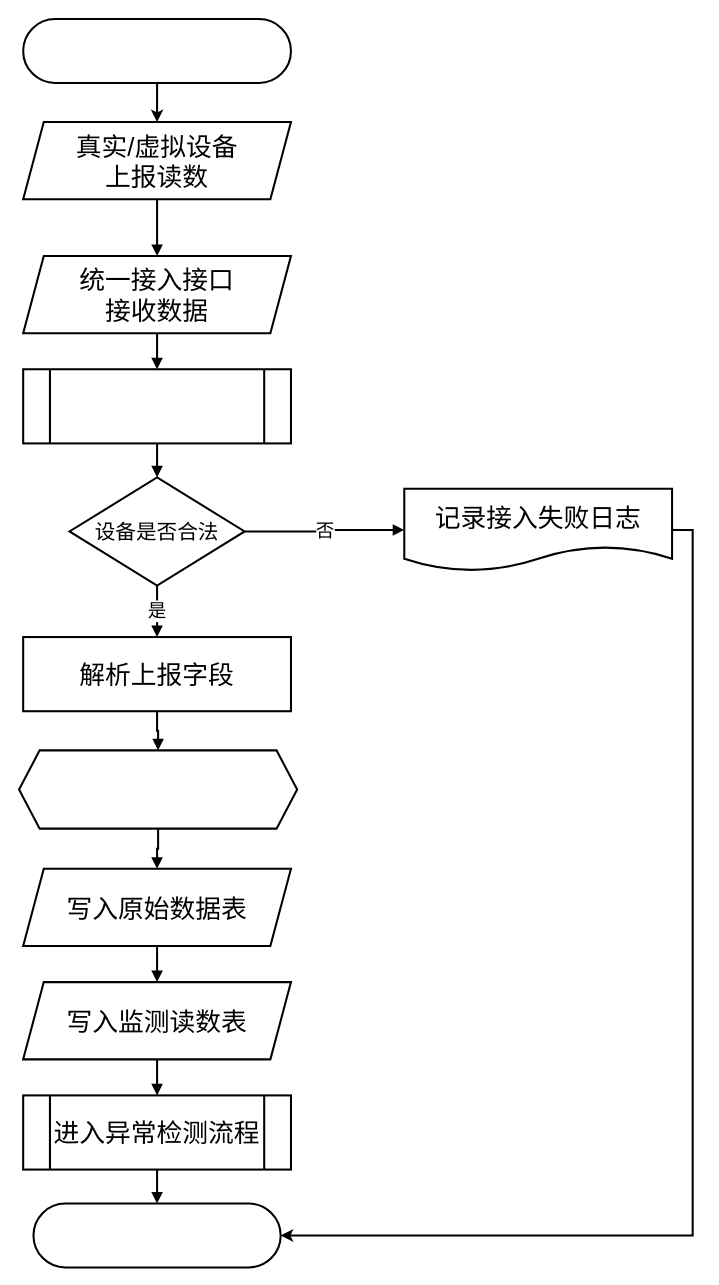
Image size: 719x1285. Some labels were removed from this diagram. The shapes that lost their labels are listed below. From the top down, each one's box as (x1, y1, x2, y2) in pixels, then its label:
(22, 18, 291, 83): 开始
(22, 368, 291, 444): 设备身份校验
(18, 749, 298, 829): 统一数据格式转换
(32, 1202, 281, 1268): 结束
